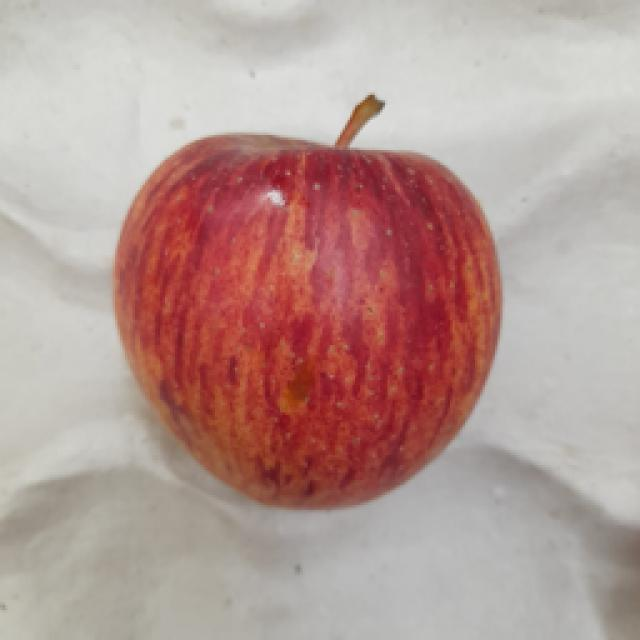Fresh_Apple: (102, 81, 519, 517)
